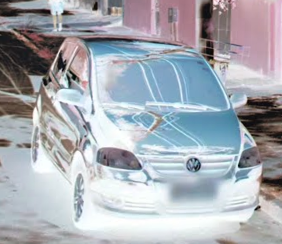car: (31, 36, 264, 233)
